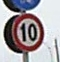limite 10: (12, 12, 43, 52)
